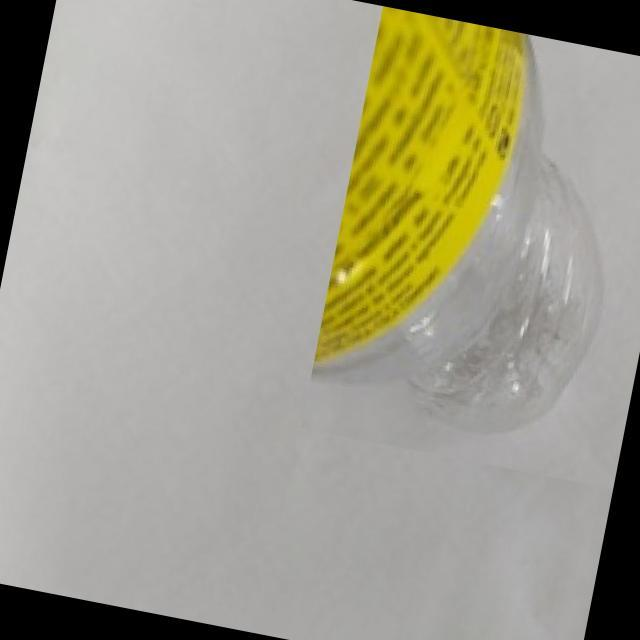good: (301, 6, 640, 489)
